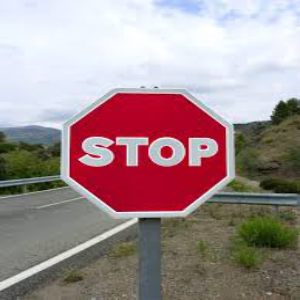STOP_SIGN: (60, 87, 236, 218)
